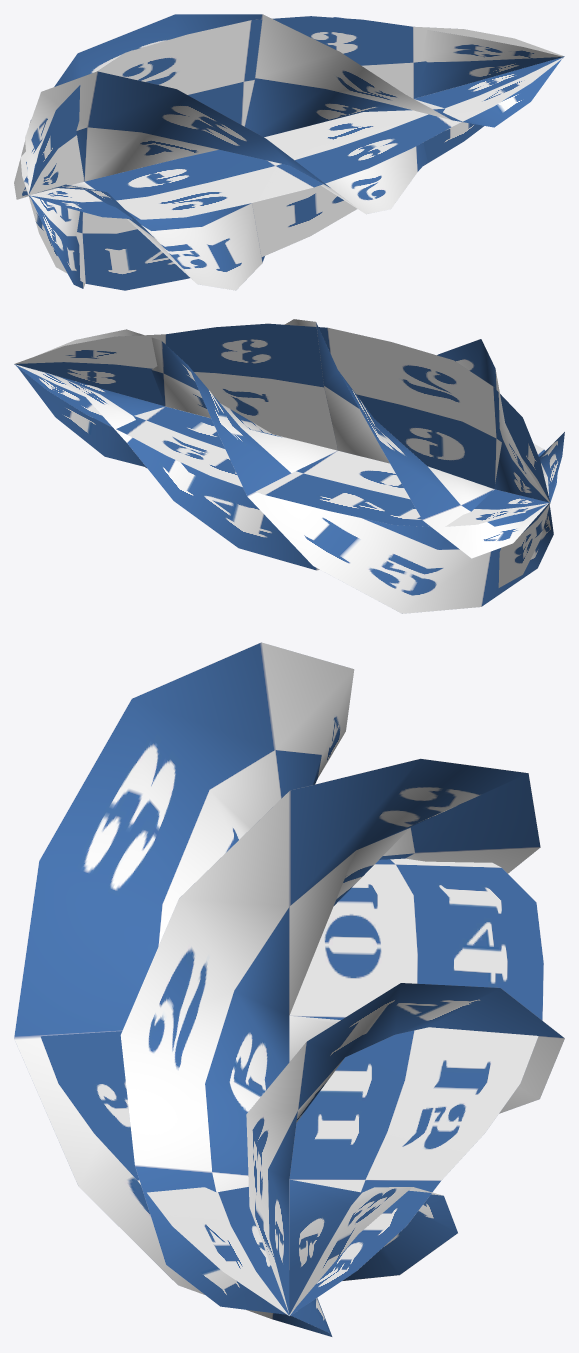
The model's file is TigerMainFire.fbx.
3 views of the same model, one above another, from view 1: azimuth 30°, elevation 25°; view 2: azimuth 150°, elevation 25°; view 3: azimuth 270°, elevation 25° (orthographic). The views are drawn at different scales.
Parts seen in each view (by area): view 1: SM_e_Skl_Fi_5Enk_Tiger_MainFire00; view 2: SM_e_Skl_Fi_5Enk_Tiger_MainFire00; view 3: SM_e_Skl_Fi_5Enk_Tiger_MainFire00.
Boxes of the visible parts, <box> form: SM_e_Skl_Fi_5Enk_Tiger_MainFire00: <box>14,14,564,290</box>; SM_e_Skl_Fi_5Enk_Tiger_MainFire00: <box>14,319,564,613</box>; SM_e_Skl_Fi_5Enk_Tiger_MainFire00: <box>14,642,564,1336</box>.
Bounding box in the file's own units: 46.32 × 20.52 × 20.64.
